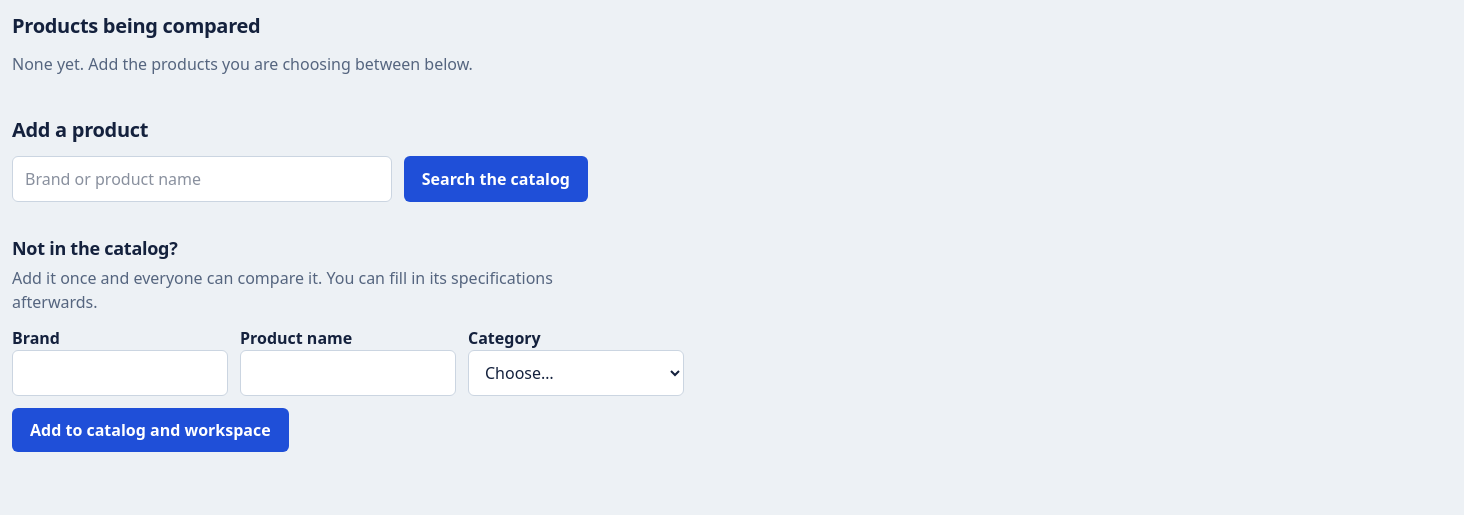
Test case: ProductsPanel › creates a product, adds it to the workspace and shows it
Click the button "Add to catalog and workspace".
click(150, 430)  # box [12, 408, 289, 452]
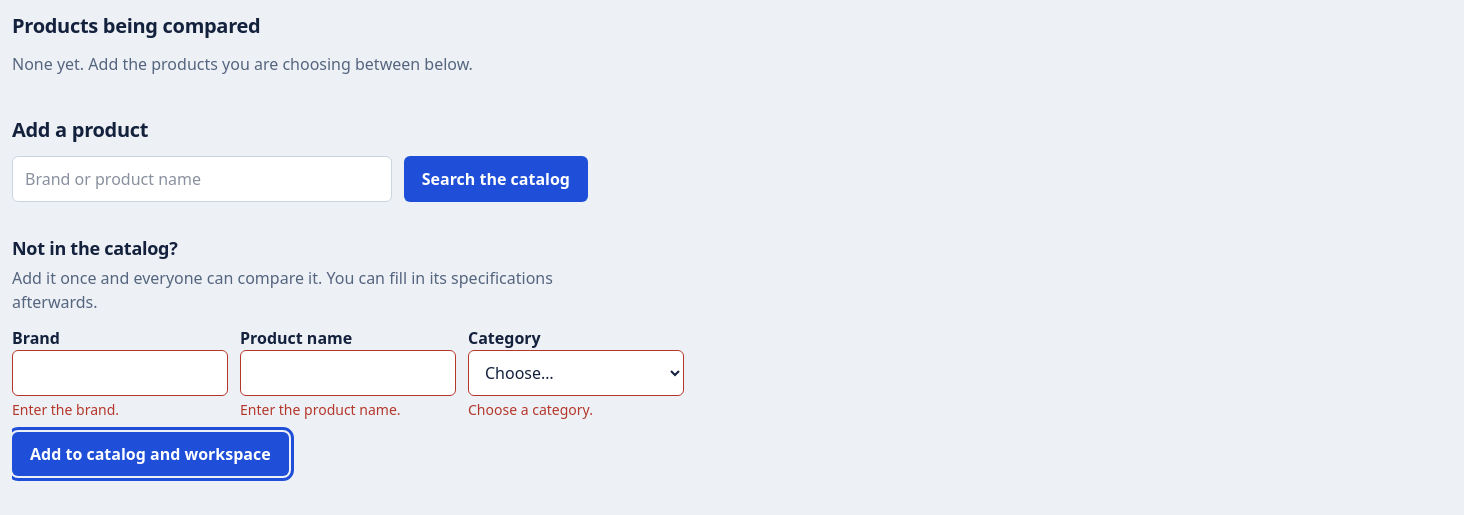
Result: the text "Enter the brand." is shown at [12, 400, 119, 419]
Result: the text "Choose a category." is shown at [468, 400, 593, 419]
Type "Aster" into the field labelled "Brand".
click(120, 373); type("Aster")  # box [12, 350, 228, 396]
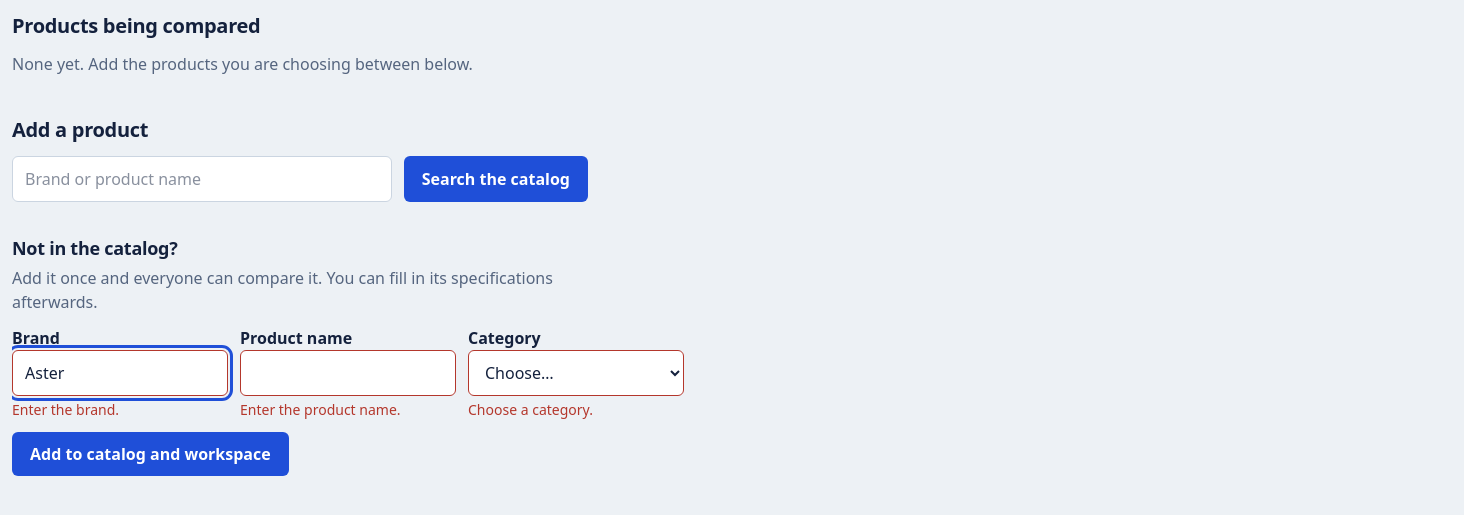
Type "Swift 14" into the field labelled "Product name".
click(348, 373); type("Swift 14")  # box [240, 350, 456, 396]
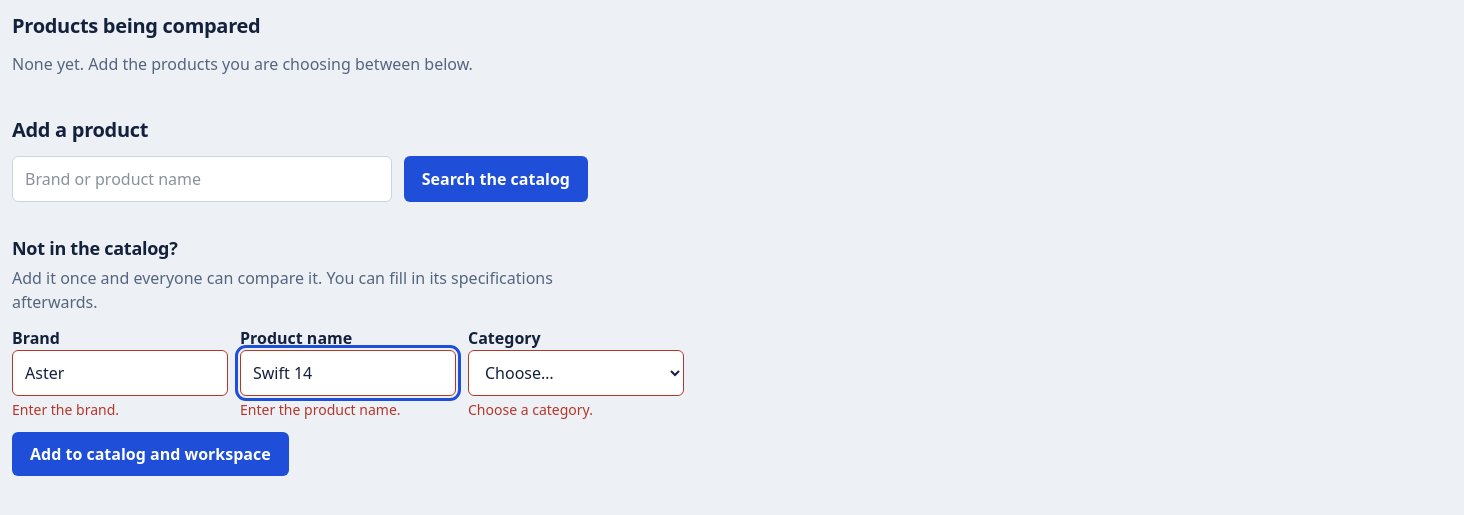
Select "laptop" in the dropdown labelled "Category" at (576, 373), box [468, 350, 684, 396]
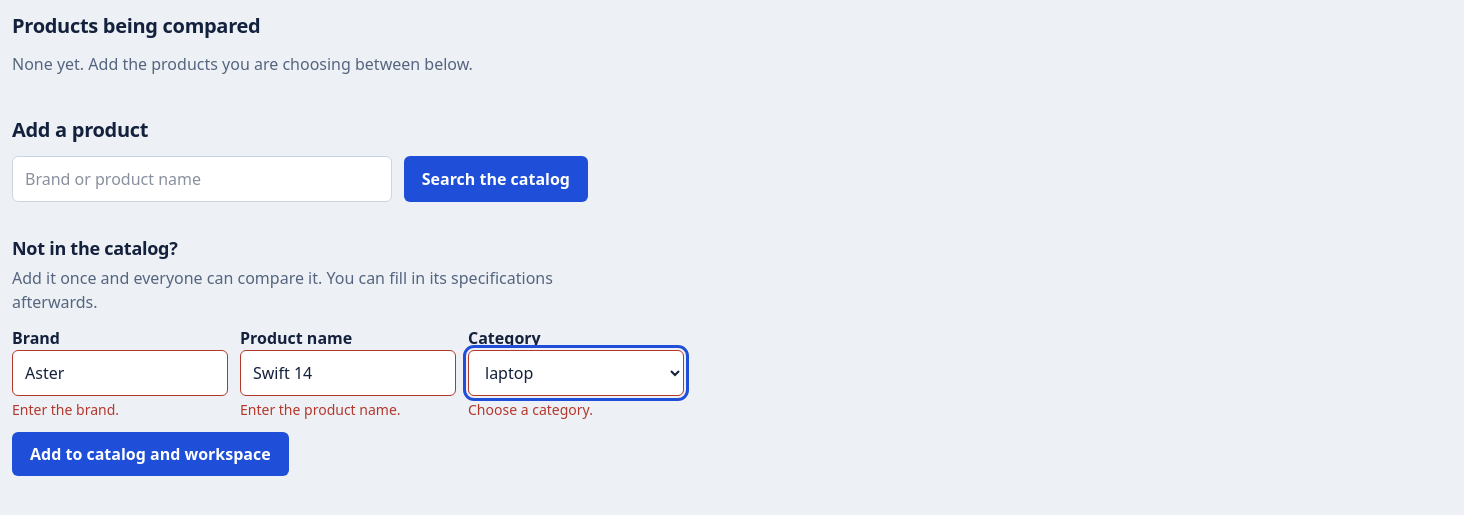
Click the button "Add to catalog and workspace".
click(150, 454)  # box [12, 432, 289, 476]
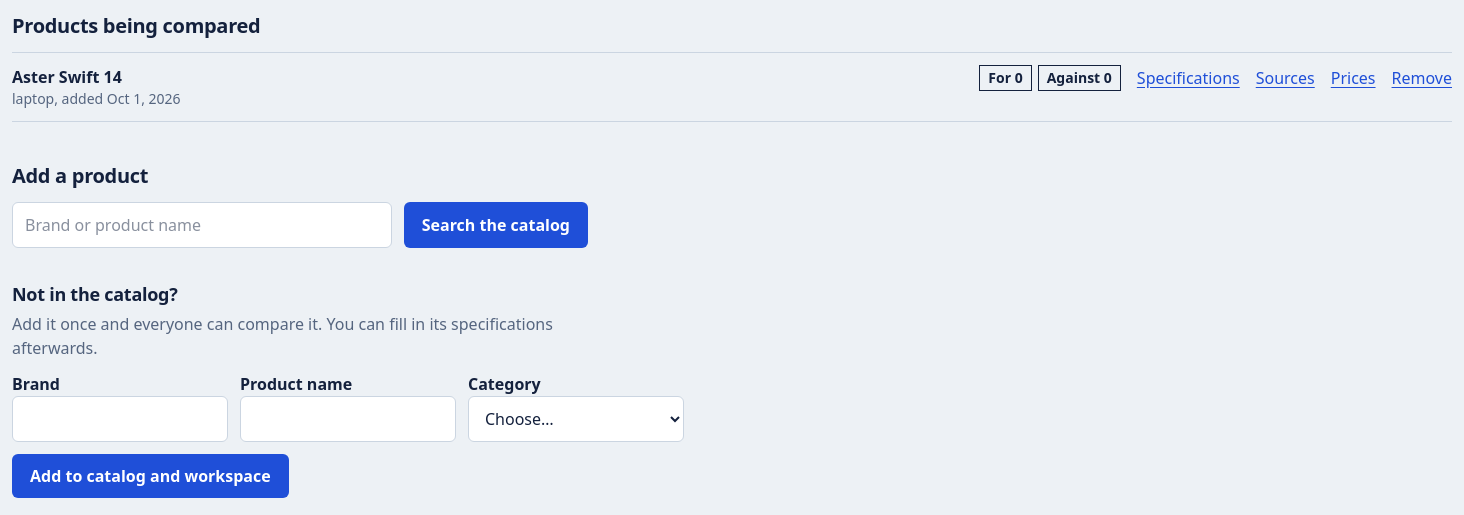
Result: the heading "Aster Swift 14" is shown at [12, 66, 122, 88]
